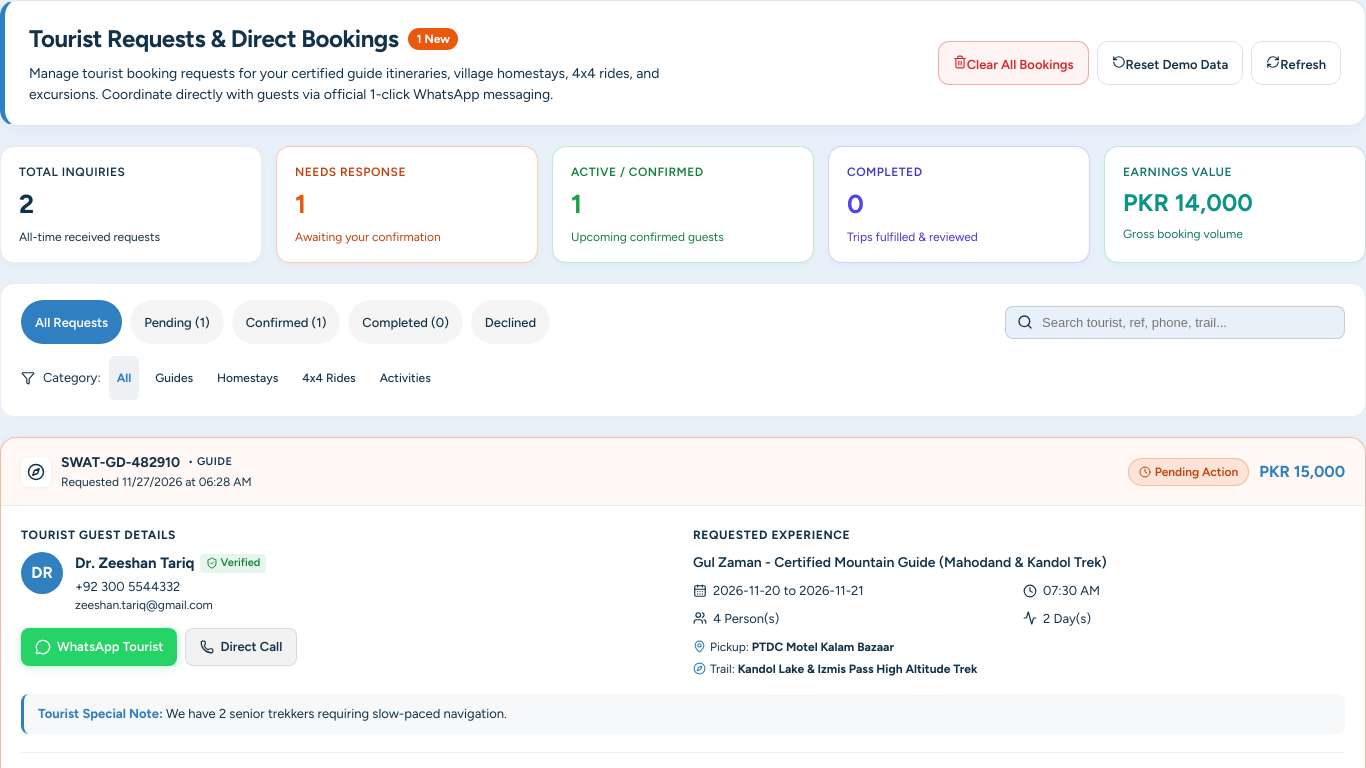
Test: Community Tourist Requests & WhatsApp Communication Portal › 9. Clears all booking requests when clicking Clear All Bookings in demo mode
Expected: the text "SWAT-GD-482910" is shown, [61,452,180,473]
Click the button with test id "btn-clear-all-requests".
click(1013, 63)  # box [938,41,1088,85]
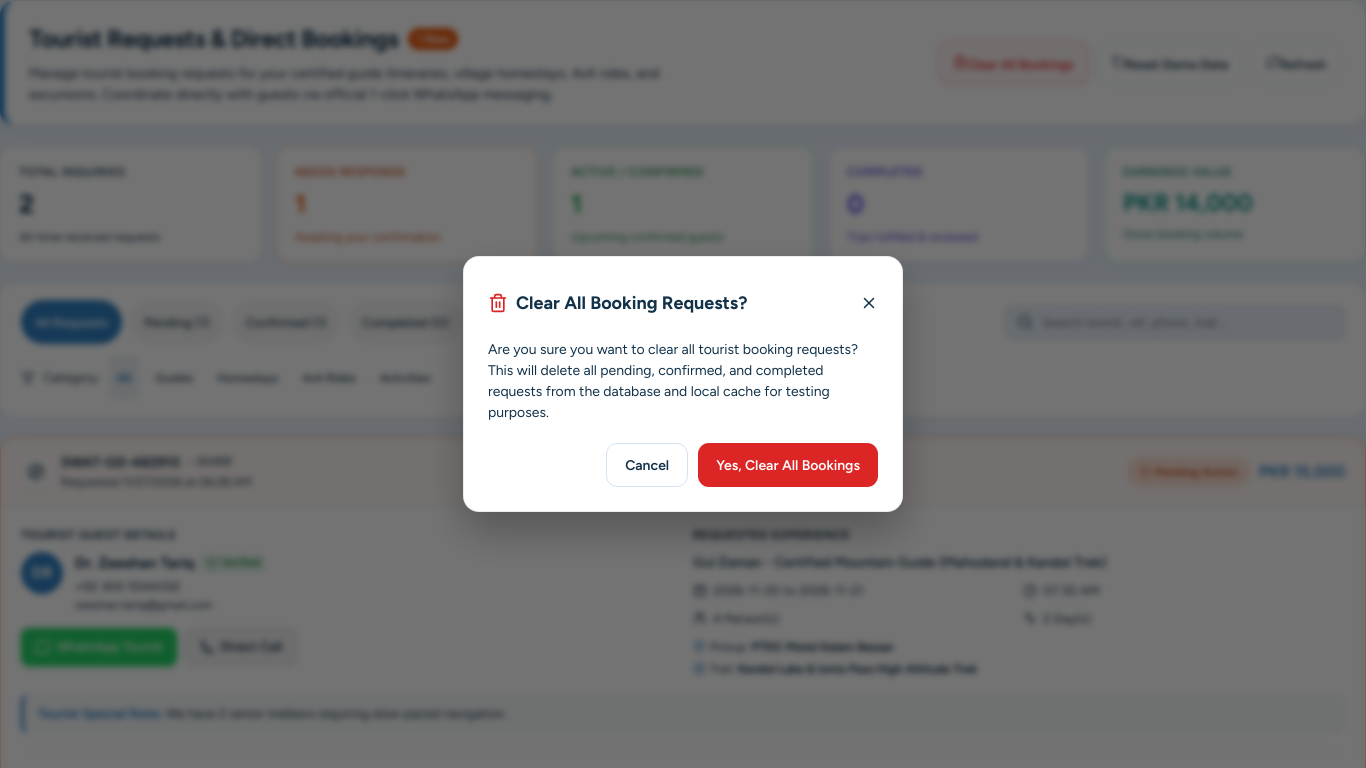
Result: the element with test id "modal-confirm-clear-all" is shown
Result: the heading "Clear All Booking Requests?" is shown at [516,290,748,316]
Click the button with test id "btn-confirm-clear-all".
click(788, 465)  # box [698,443,878,487]
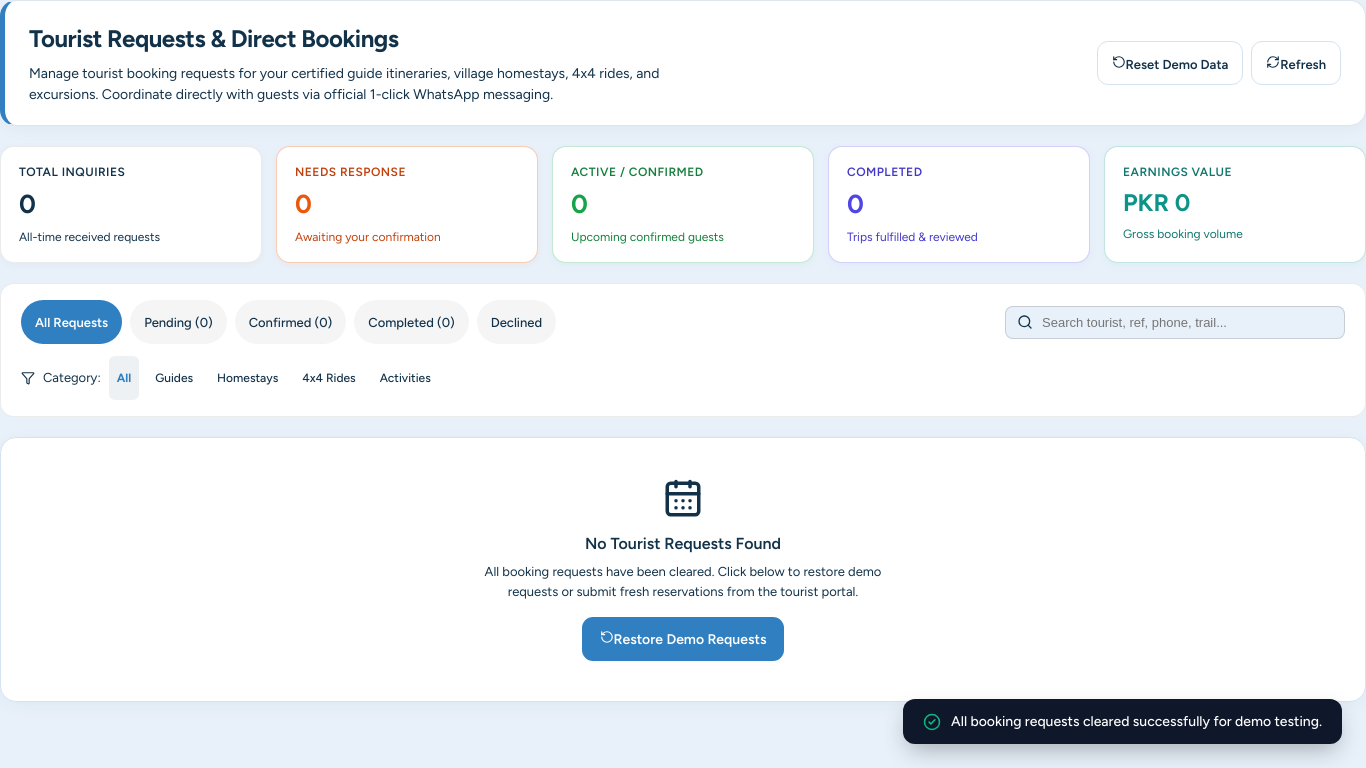
Result: the heading "No Tourist Requests Found" is shown at [585,534,781,553]
Result: the text "Restore Demo Requests" is shown at [600,630,766,648]
